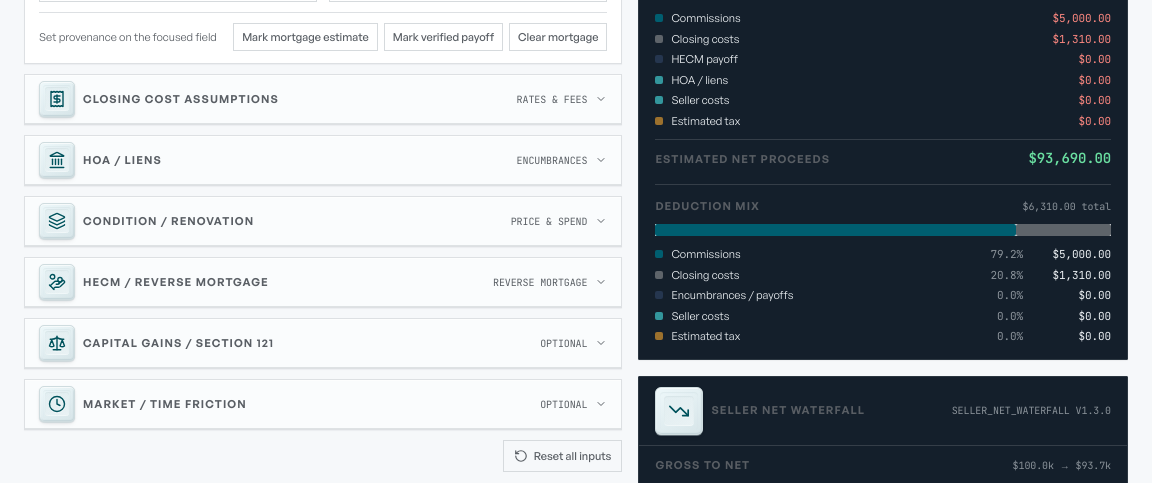
Test: HECM incomplete inputs stay controlled › blocks the calculation and names the missing HECM fields instead of rendering NaN
(page scrolled)
Note: The HECM section still renders its inputs so the user can complete them.
Click the button with test id "inputs.hecm.toggle": {"x": 57, "y": 282} x1=25 y1=258 x2=621 y2=307
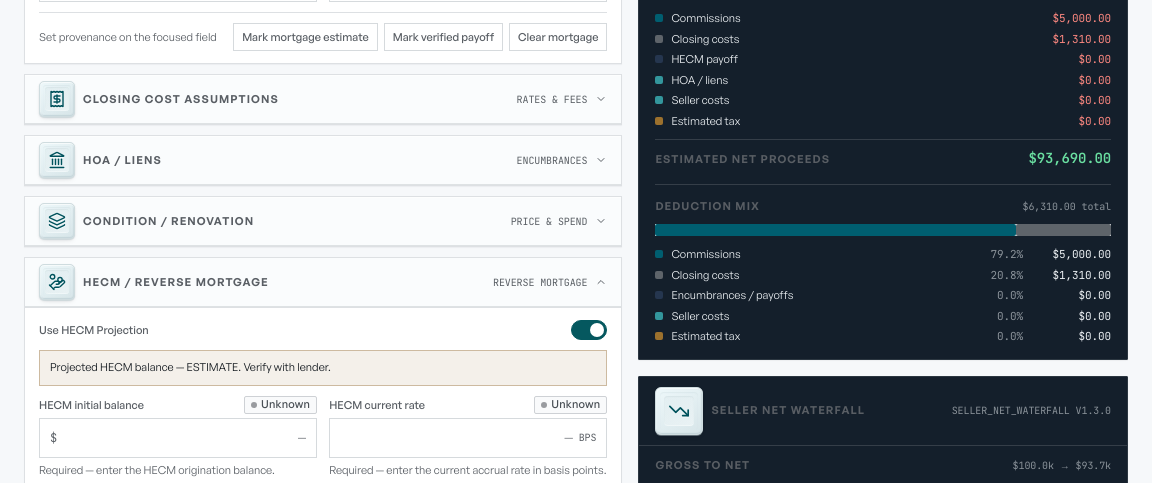
Check: the field with test id "inputs.hecm_initial_balance" is shown, box x1=63 y1=419 x2=306 y2=457
